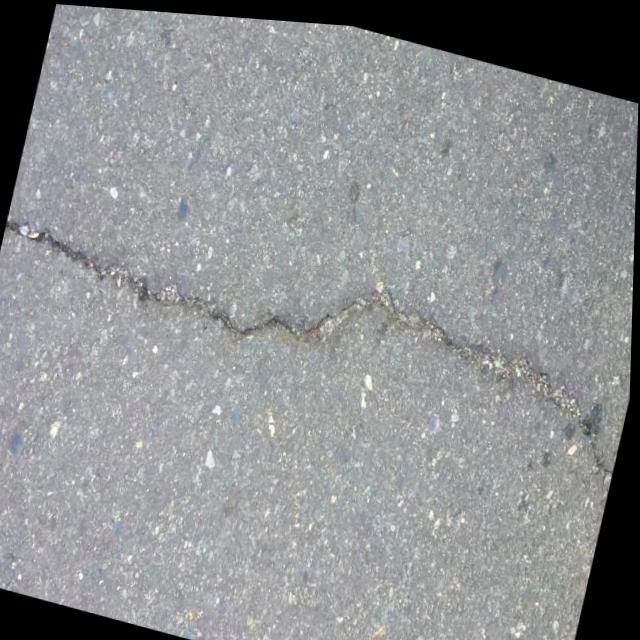Crack: (0, 161, 636, 503)
